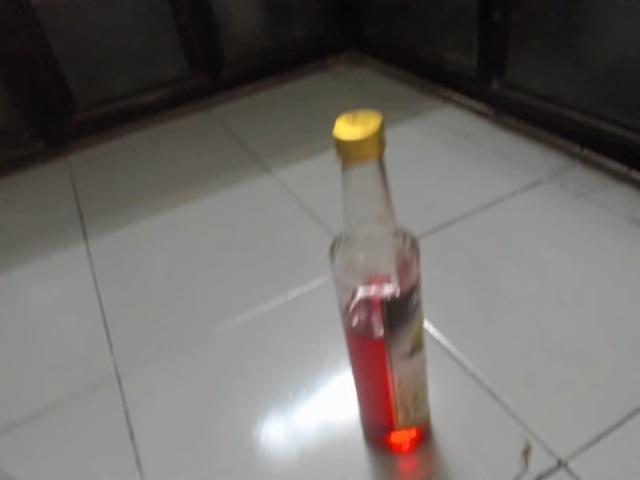botol_kaca: (319, 101, 448, 462)
